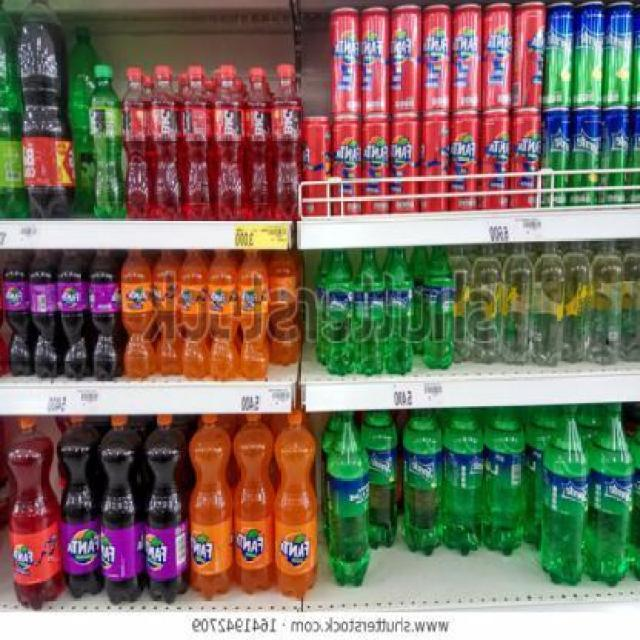Drinks: (7, 418, 56, 610), (231, 413, 274, 602), (188, 413, 231, 602), (146, 414, 189, 603), (100, 415, 143, 604), (274, 412, 317, 600), (589, 402, 633, 585), (544, 404, 588, 587), (56, 416, 99, 599), (401, 409, 443, 558), (443, 407, 485, 556), (360, 411, 398, 551), (237, 250, 269, 381), (175, 251, 207, 382), (206, 252, 238, 383), (120, 250, 152, 381), (89, 249, 120, 380), (58, 249, 89, 380), (383, 247, 414, 375), (354, 248, 385, 376), (325, 250, 356, 376), (29, 249, 58, 380), (1, 249, 29, 377), (481, 2, 513, 110), (449, 109, 480, 211), (515, 2, 544, 110), (452, 2, 481, 110), (422, 5, 451, 113), (392, 5, 421, 113), (362, 7, 391, 115), (331, 7, 360, 115), (603, 2, 632, 110), (574, 1, 603, 109), (544, 3, 573, 111), (509, 111, 541, 207), (479, 112, 510, 210), (419, 113, 450, 211), (389, 113, 420, 211), (329, 115, 360, 213), (300, 115, 331, 213), (360, 116, 391, 213), (153, 251, 176, 375), (602, 109, 630, 205), (574, 111, 602, 205), (544, 111, 572, 205)
